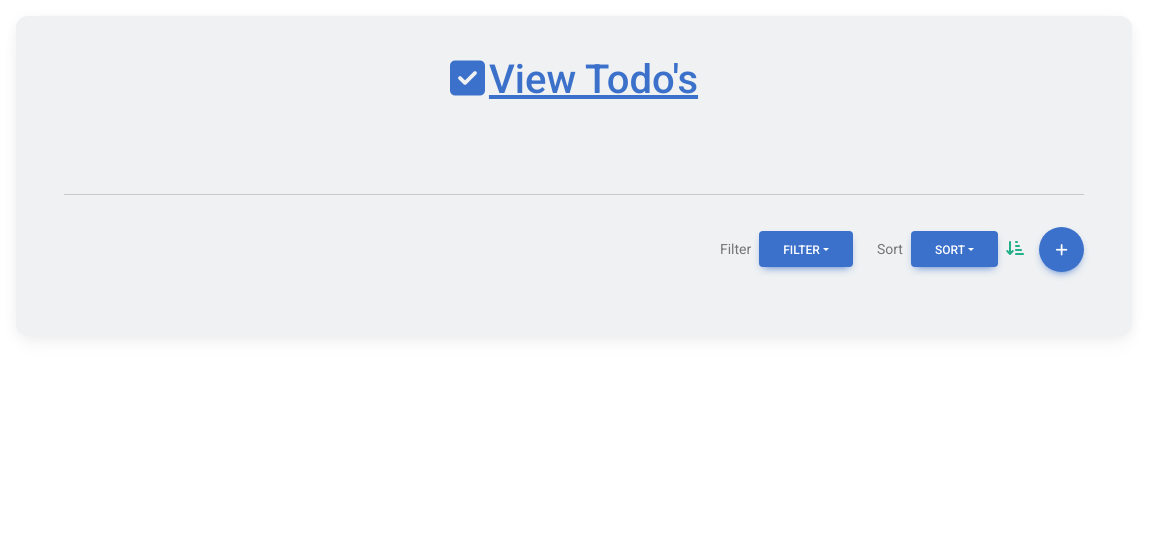
Scenario: renders Create page
Click the button named "create-todo" at (1062, 249), box x1=1039 y1=227 x2=1084 y2=272
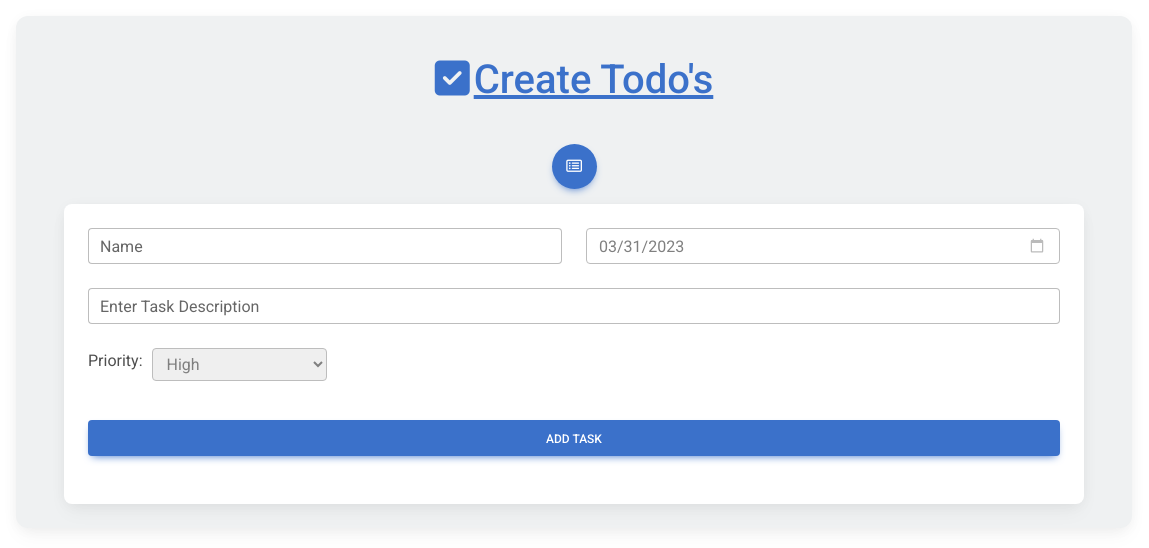
Expected: the text "Create Todo's" is shown, x1=474 y1=56 x2=713 y2=103
